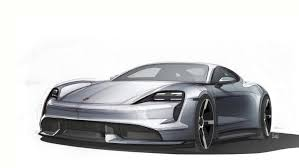car: (37, 62, 281, 153)
